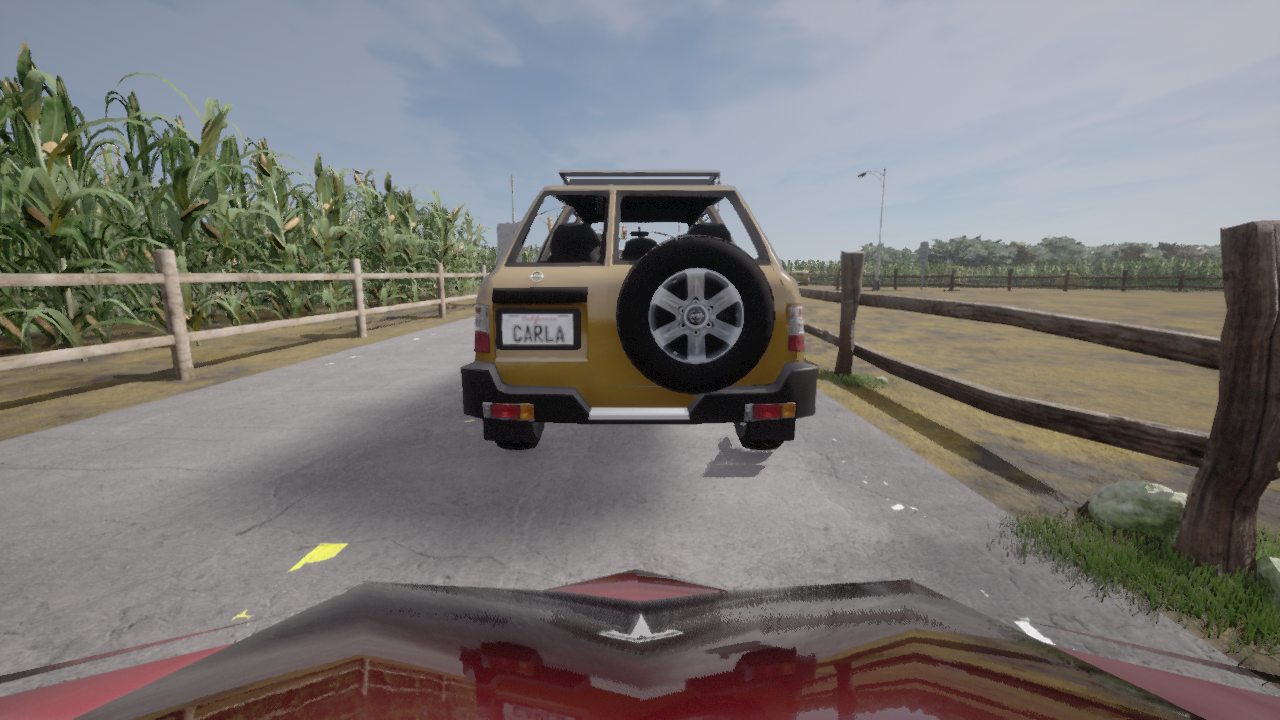cyclist: (0, 569, 1279, 719), (461, 170, 817, 449)
